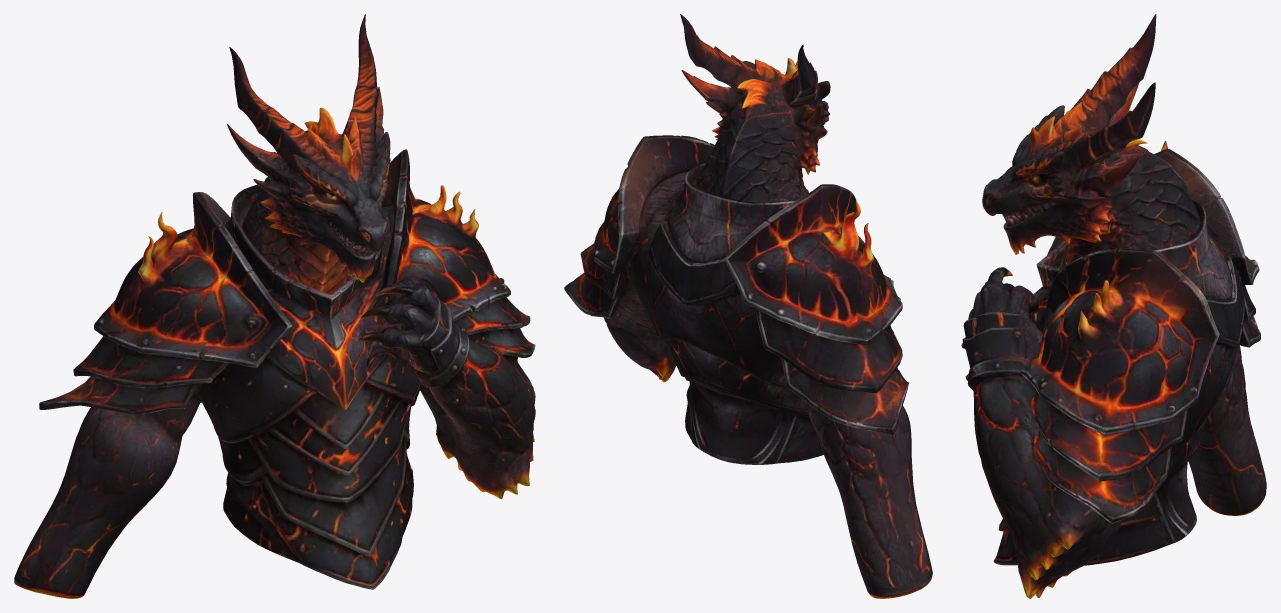
The model's file is hero_ember.glb.
The picture shows the model from 3 angles, left to right: view 1: azimuth 30°, elevation 25°; view 2: azimuth 150°, elevation 25°; view 3: azimuth 270°, elevation 25°; orthographic projection. The views are drawn at different scales.
Bounding box in the file's own units: 1.67 × 1.9 × 0.9377.
Materials: 1 (1 with a texture image).
